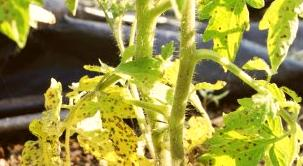Tomato Septoria leaf spot: (194, 97, 302, 166), (74, 96, 158, 166), (20, 87, 82, 166), (199, 0, 261, 56), (261, 0, 303, 71)
